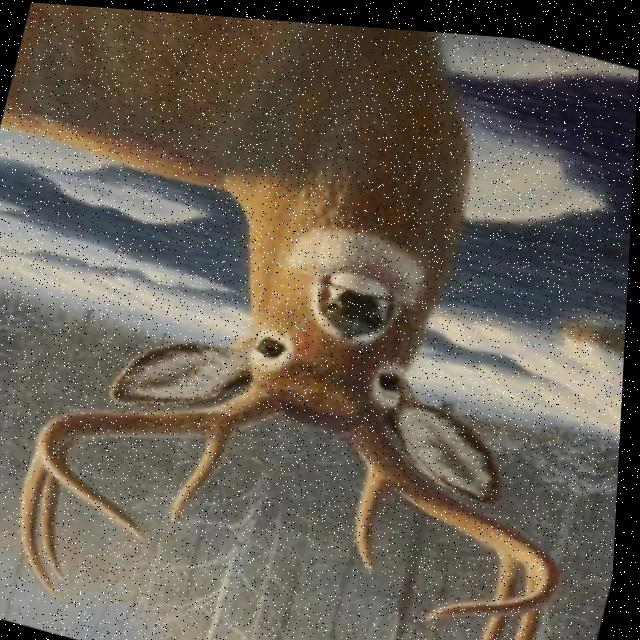L-F: (351, 419, 568, 617)
L-G1: (359, 459, 396, 565)
R-F: (41, 382, 284, 538)
R-G1: (175, 430, 235, 519)
